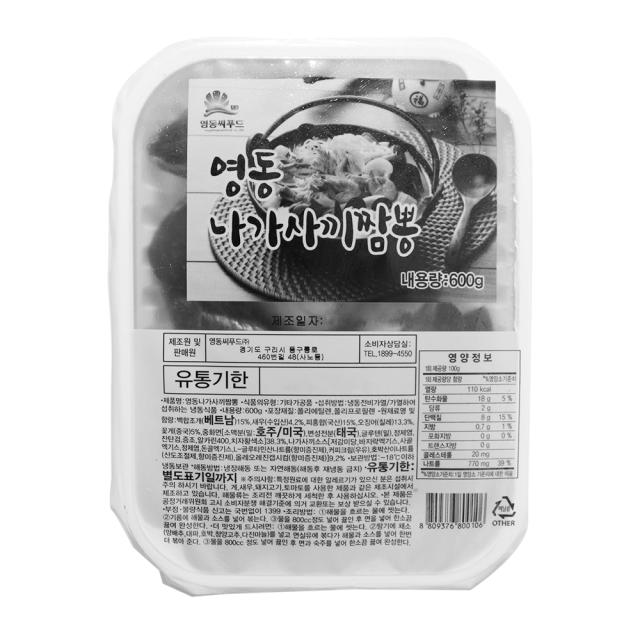Nutrition Label: (412, 347, 523, 483)
